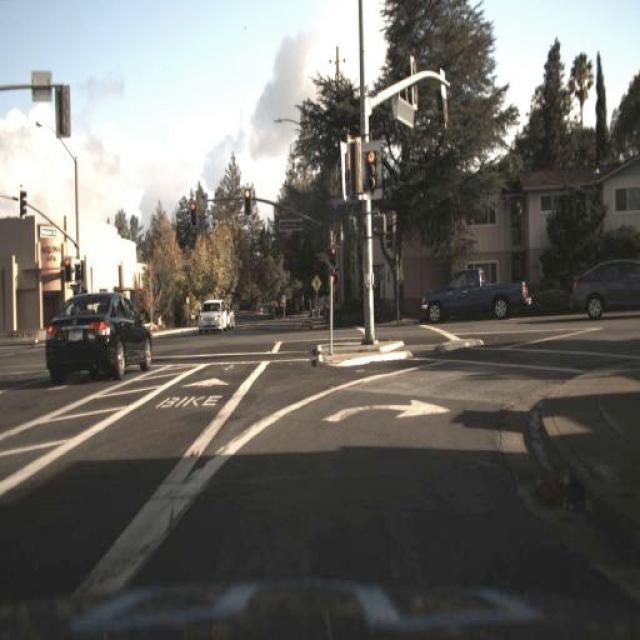semaforo: (365, 150, 378, 192), (244, 187, 252, 215), (190, 201, 198, 228)
